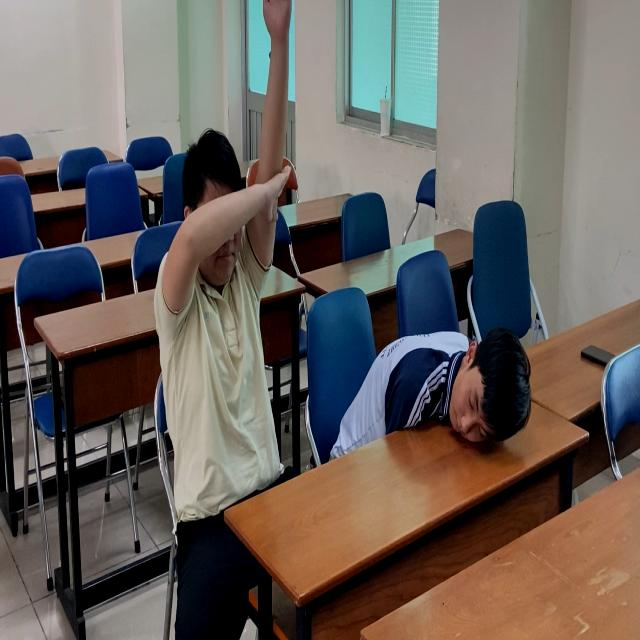raise_hand: (154, 1, 302, 483)
sleep: (336, 297, 538, 494)
